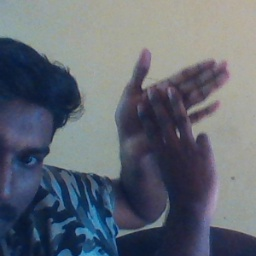M: (113, 48, 229, 198)
